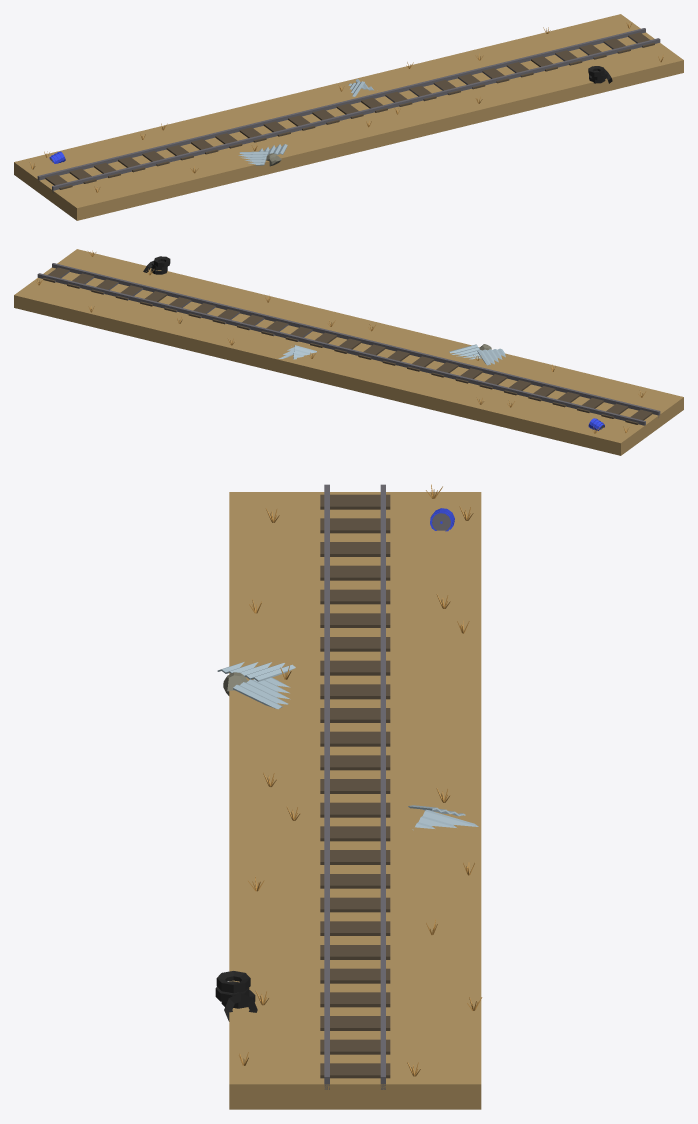
The model's file is Meio-FerroVelho-1.glb.
3 views of the same model, one above another, from view 1: azimuth 30°, elevation 25°; view 2: azimuth 150°, elevation 25°; view 3: azimuth 270°, elevation 25° (orthographic). The views are drawn at different scales.
Visible parts, largest first — view 1: CHAO.005, TRILHO.005; view 2: CHAO.005, TRILHO.005; view 3: CHAO.005, TRILHO.005, METAL.001.
Part boxes in pixels (x1=…): CHAO.005: x1=14, y1=14, x2=683, y2=220; TRILHO.005: x1=37, y1=28, x2=660, y2=193; CHAO.005: x1=14, y1=249, x2=683, y2=455; TRILHO.005: x1=37, y1=263, x2=660, y2=425; CHAO.005: x1=229, y1=492, x2=481, y2=1109; TRILHO.005: x1=320, y1=484, x2=390, y2=1089; METAL.001: x1=233, y1=677, x2=290, y2=709.
Bounding box in the file's own units: 50 × 1.87 × 9.52.
